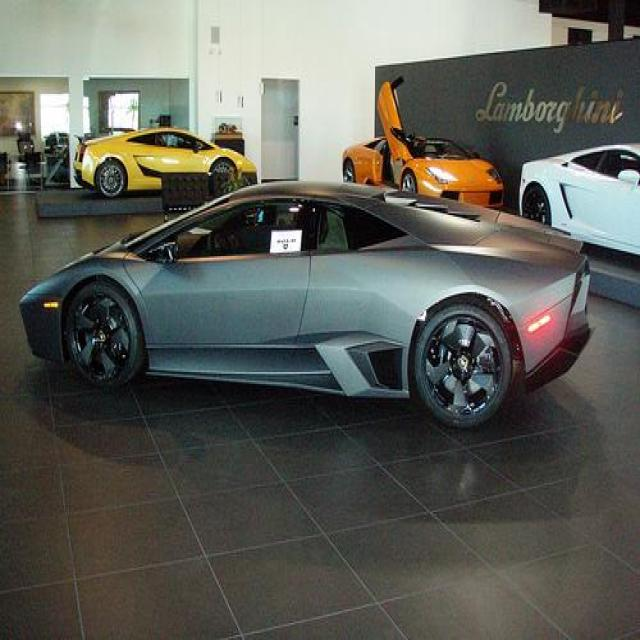Car: (25, 165, 602, 449)
